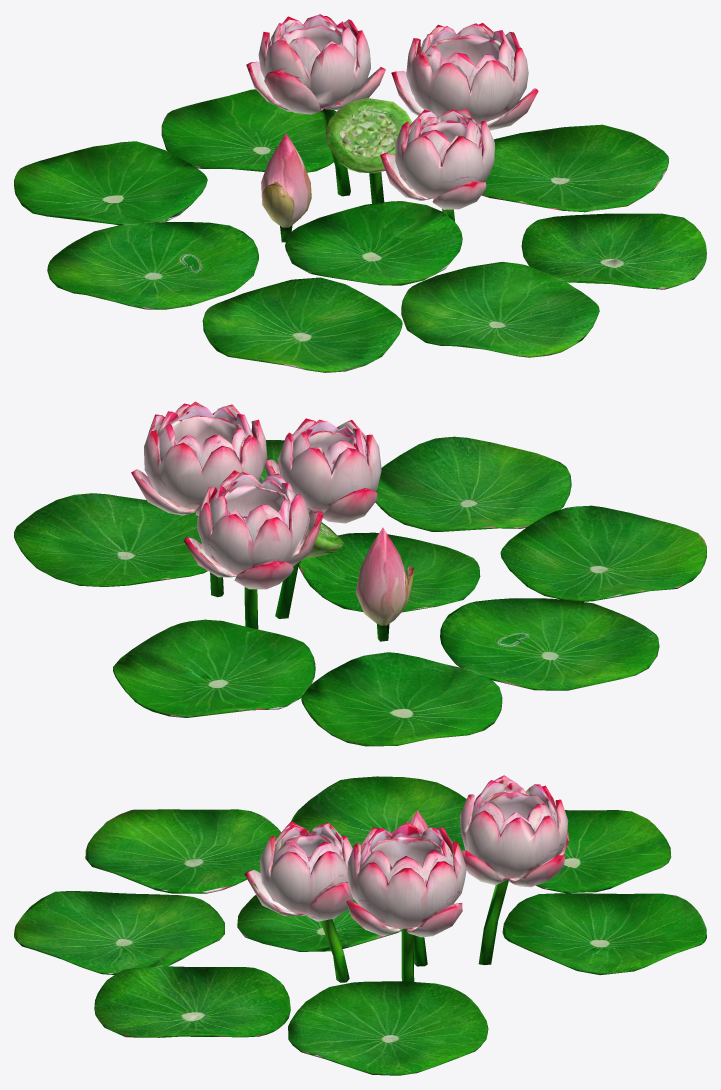
Rendered from lotus.glb.
3 renders of one model, top to bottom at view 1: azimuth 30°, elevation 25°; view 2: azimuth 150°, elevation 25°; view 3: azimuth 270°, elevation 25°, orthographic. The views are drawn at different scales.
Visible parts, largest first — view 1: lotus; view 2: lotus; view 3: lotus.
Boxes of the visible parts, box(x1,y1,x2,y2) form: lotus: box(14, 14, 706, 372); lotus: box(14, 401, 706, 746); lotus: box(14, 775, 706, 1075).
Bounding box in the file's own units: 1 × 0.2646 × 0.9998.
Materials: 1 (1 with a texture image).
